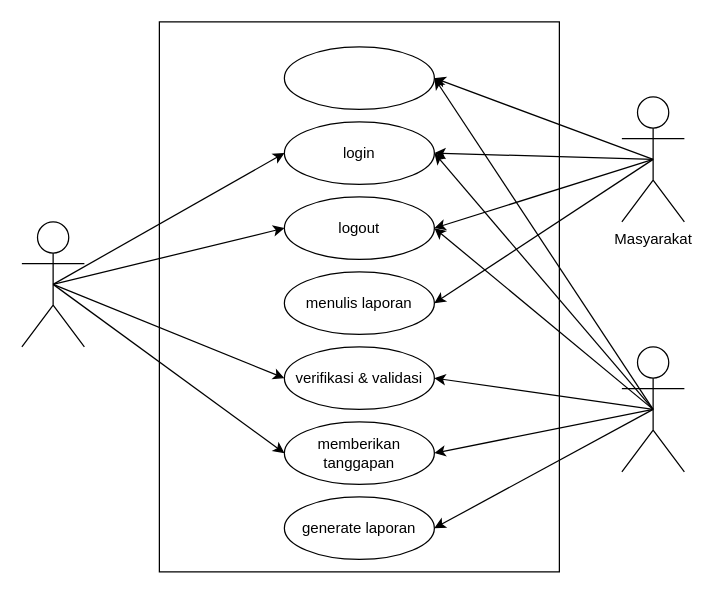
This 714x594 diagram has some shape labels left out. Each missing label, with the centre of its shape:
"Admin" goes at point (652, 409).
"petugas" goes at point (52, 284).
"registrasi" goes at point (358, 77).
